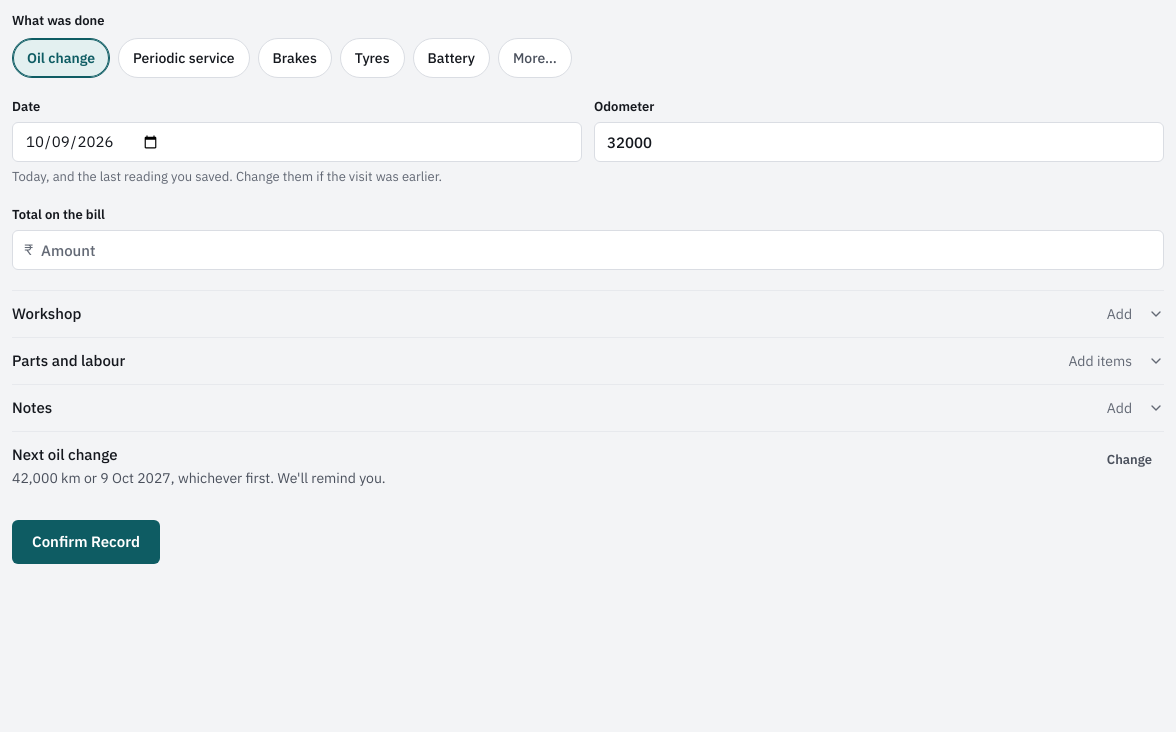
Scenario: MaintenanceForm › next due › follows the work picked and the reading typed
The width and height of the screenshot is (1176, 732).
Type "2026-09-23" into the date field labelled "Date" at (297, 142), box [12,122,582,162]
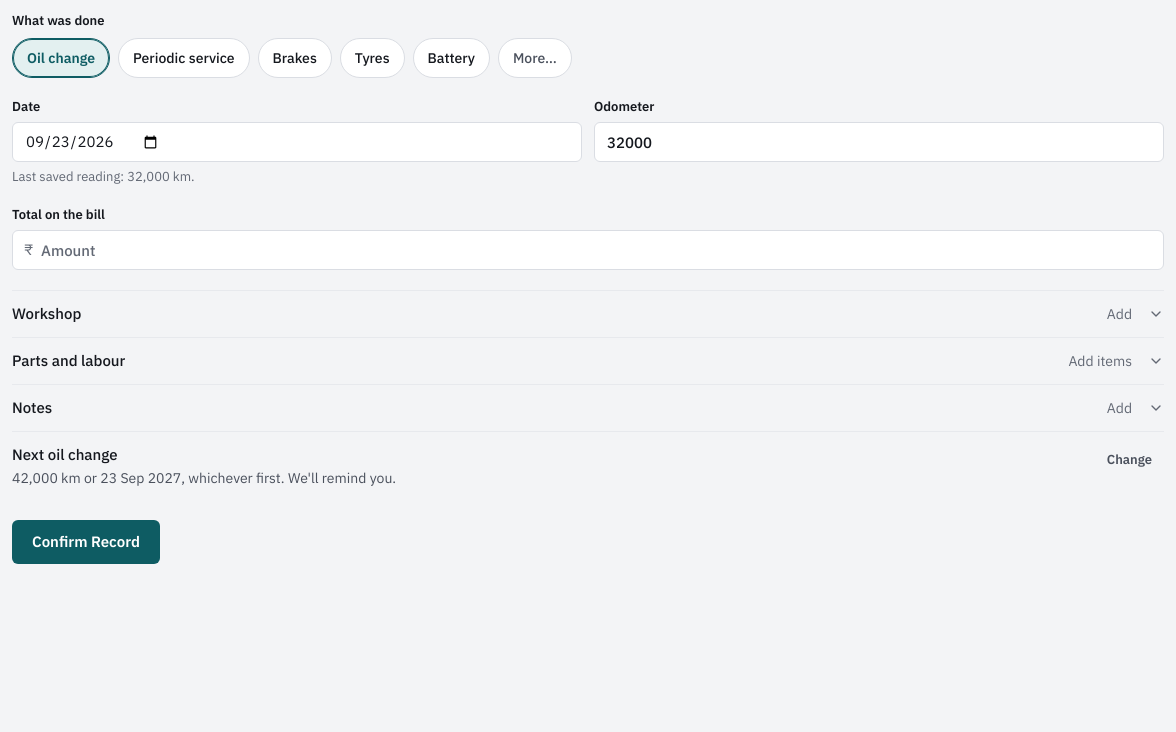
Replace the text in the number field labelled "Odometer" with "33000" at (879, 142), box [594,122,1164,162]
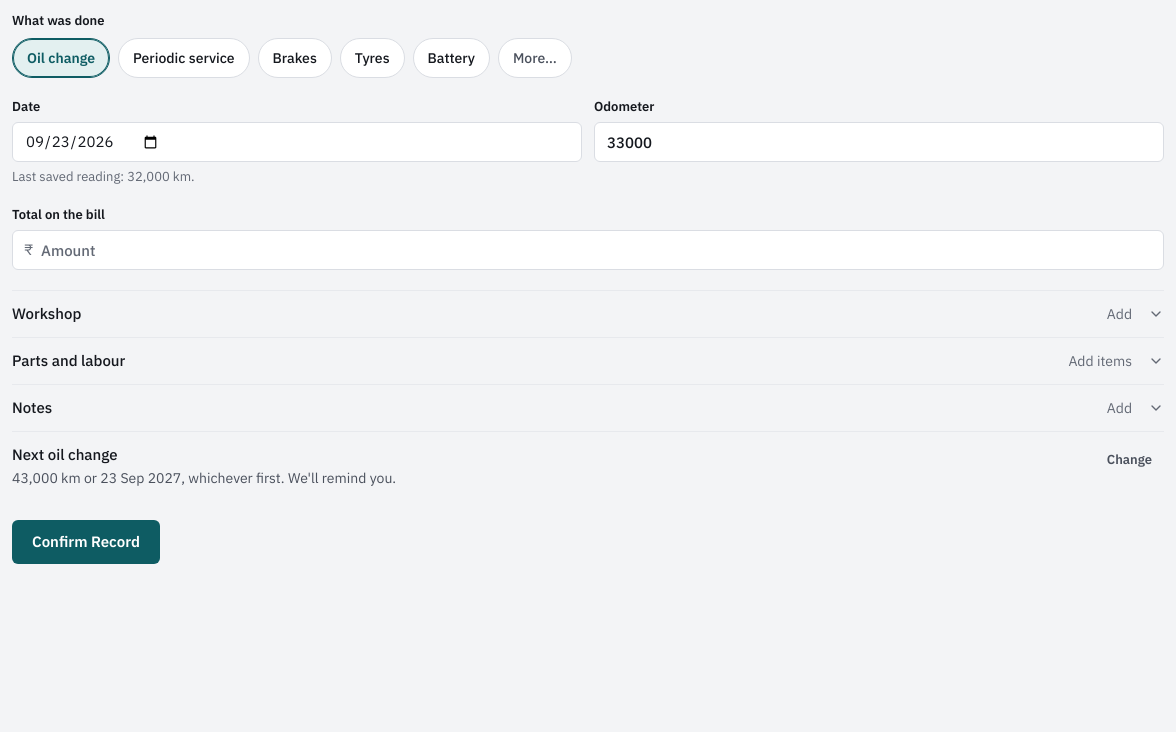
Now the element with test id "next-due" shows "43,000 km or 23 Sep 2027", box [12,469,285,487]
Click the button "Battery" at (451, 58), box [413,38,490,78]
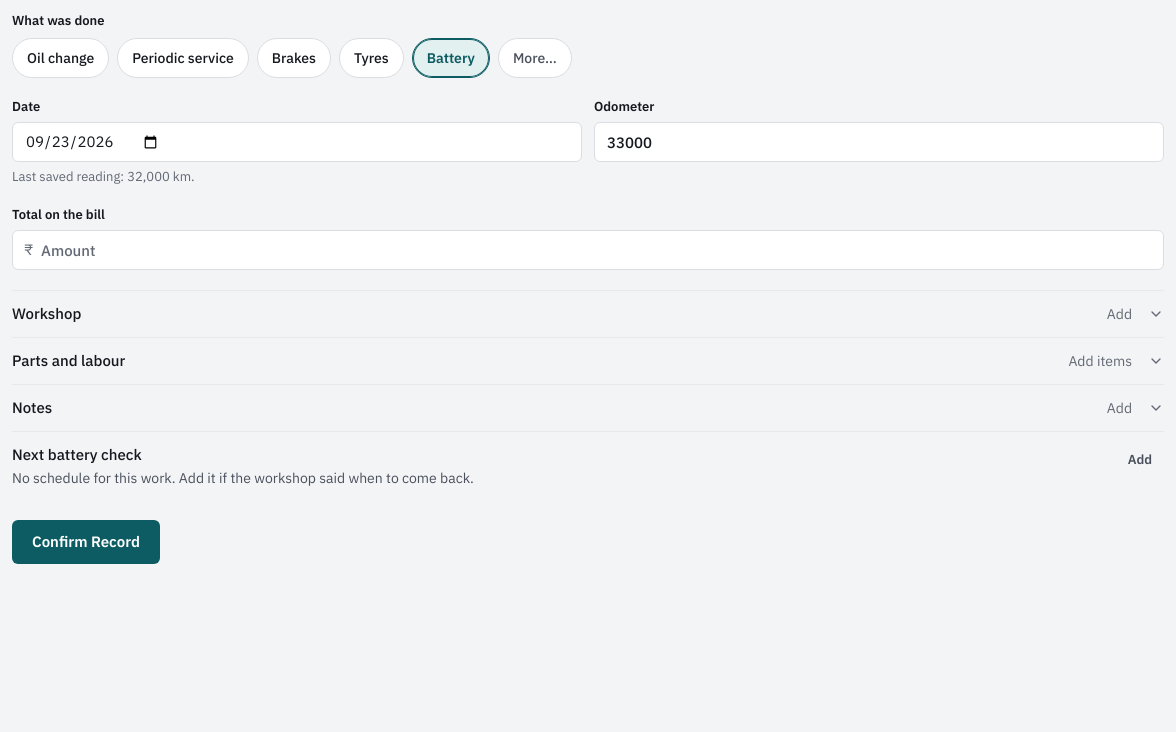
Now the element with test id "next-due" shows "No schedule for this work.", box [12,469,474,487]
